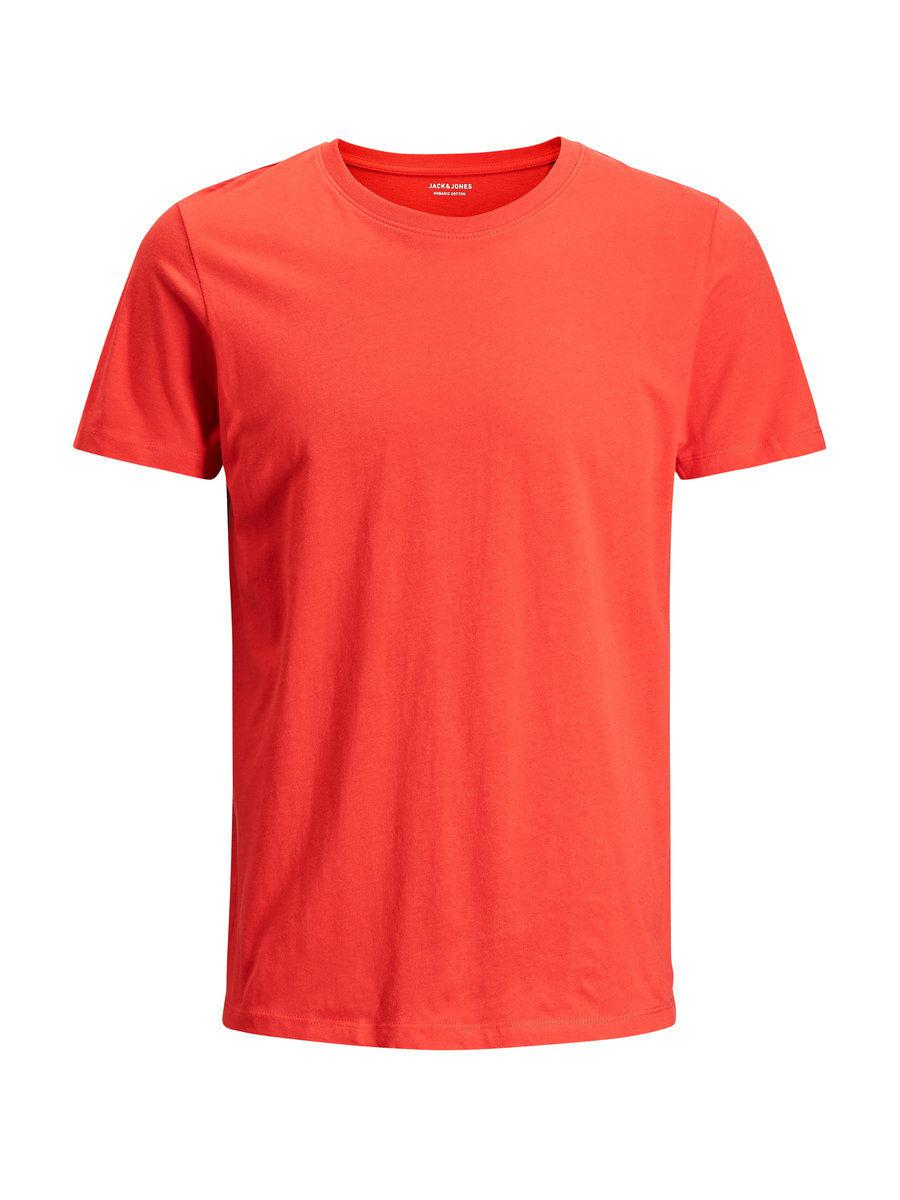teeshirt: (54, 107, 852, 1062)
